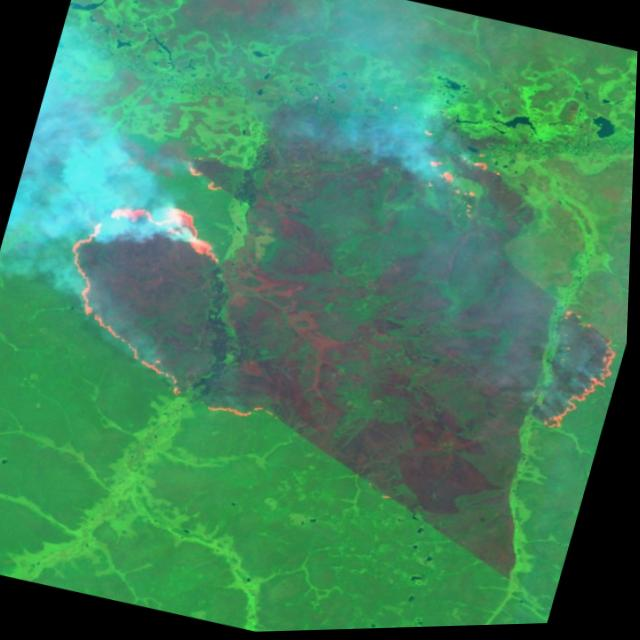fire: (20, 173, 331, 441)
